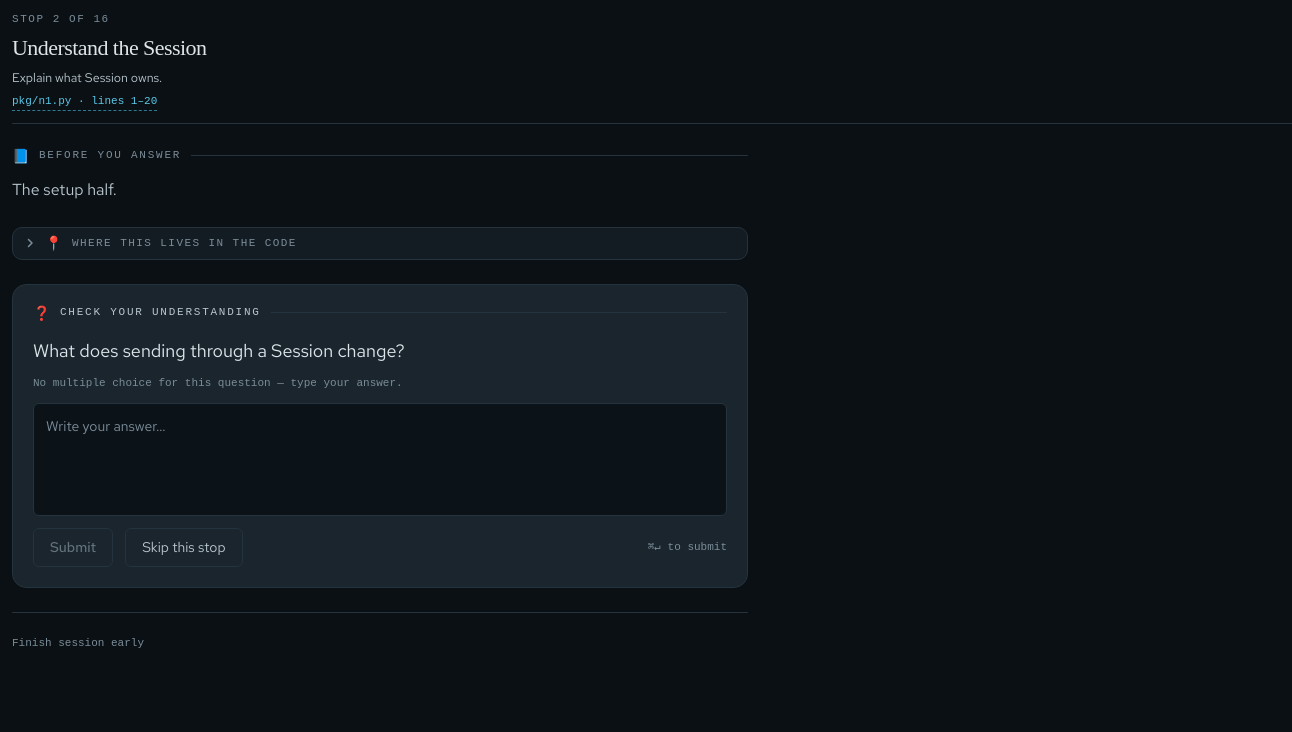
it: Ask me again › runs a re-assessment when the server says reassess
This screenshot has width=1292, height=732.
expect the text "What does sending through a Session change?" is shown: met, box [33,339,405,362]
Type "A wrong answer." into the text box with placeholder "Write your answer…" at (380, 459), box [33,403,727,516]
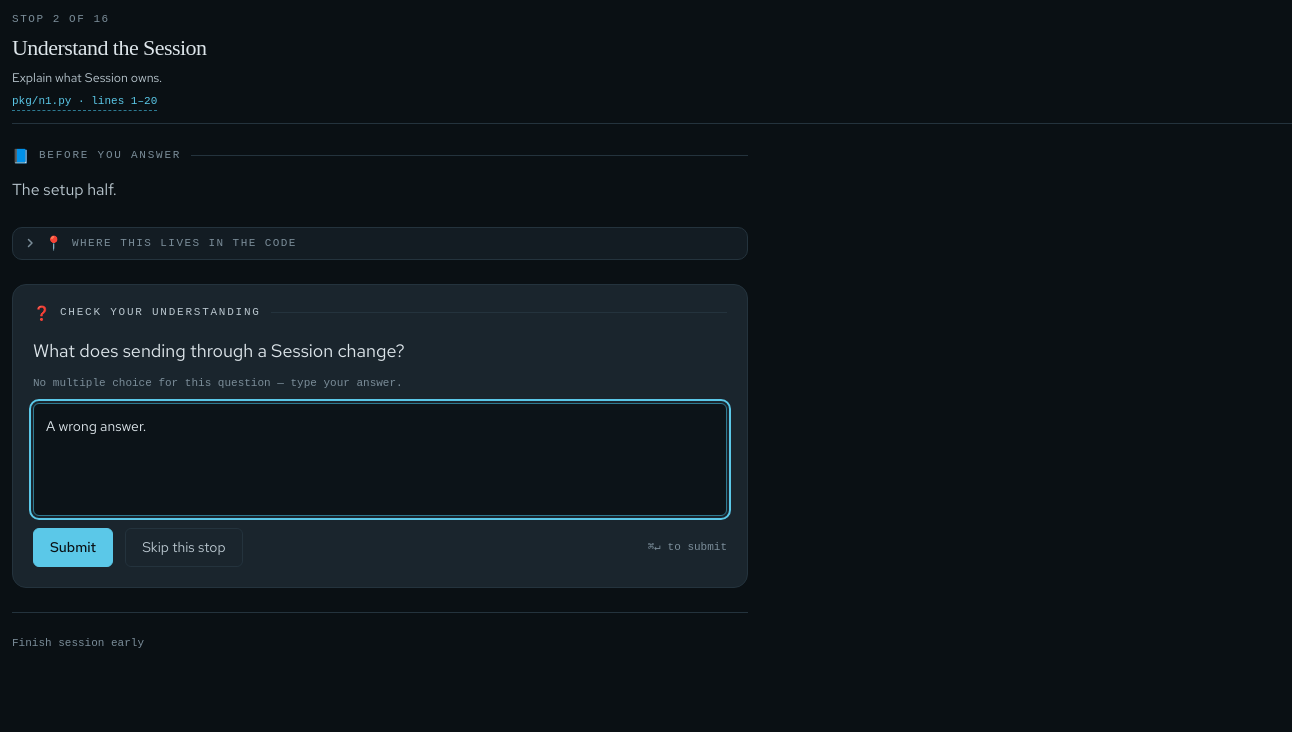
Click the button "Submit" at (73, 548), box [33,528,113,567]
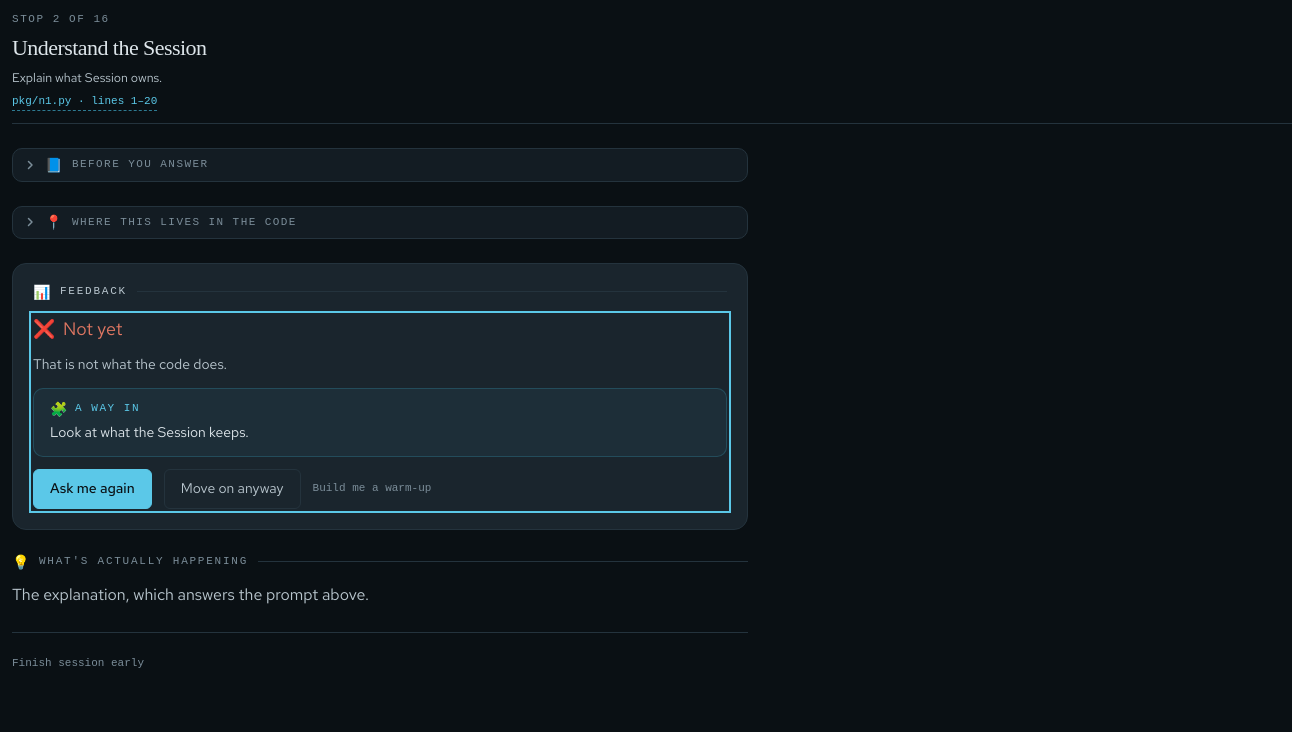
expect the text "That is not what the code does." is shown: met, box [33,355,227,373]
Click the button "Ask me again" at (92, 489), box [33,469,152,509]
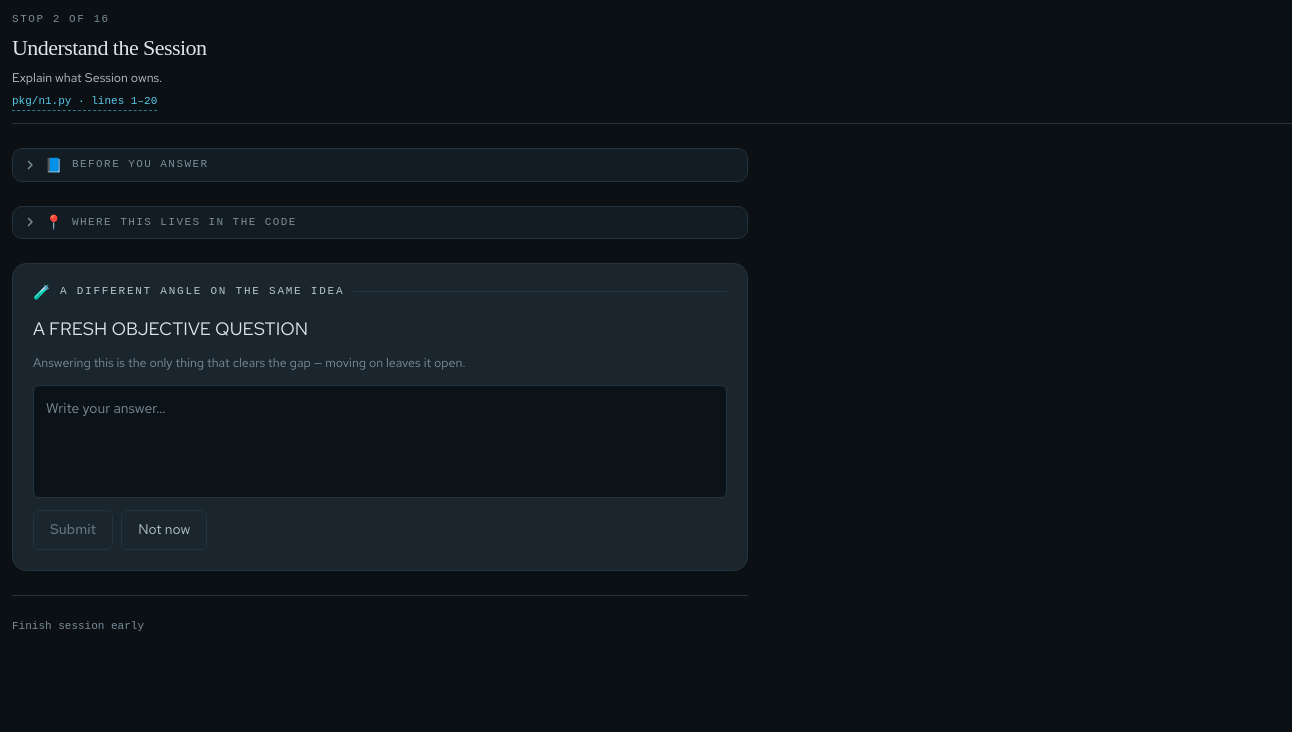
expect the text "A FRESH OBJECTIVE QUESTION" is shown: met, box [33,317,308,340]
